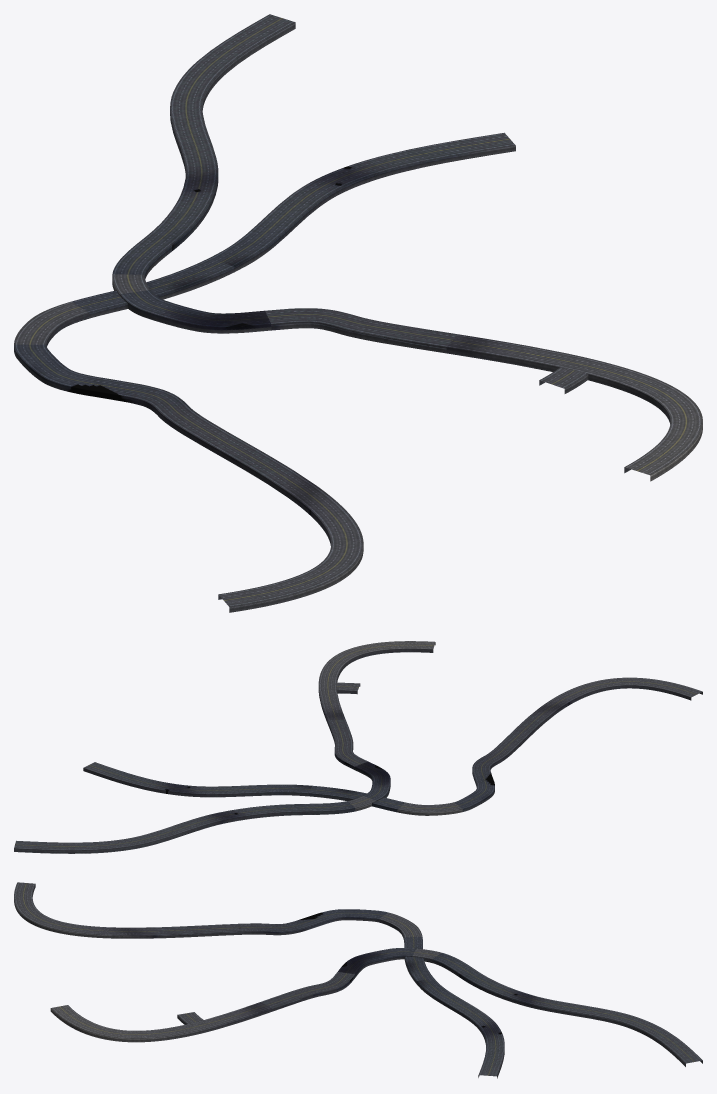
Rendered from Road.gltf.
The picture shows the model from 3 angles, top to bottom: view 1: azimuth 30°, elevation 25°; view 2: azimuth 150°, elevation 25°; view 3: azimuth 270°, elevation 25°; orthographic projection. The views are drawn at different scales.
Parts seen in each view (by area): view 1: Road; view 2: Road; view 3: Road.
Boxes of the visible parts, x1,y1,x2,y2 form: Road: [14, 14, 702, 612]; Road: [14, 641, 702, 853]; Road: [14, 882, 702, 1078].
Size of the model in its own units: 14.47 by 0.1285 by 21.71.
Materials: 1 (1 with a texture image).
